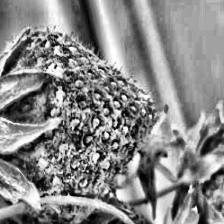Powdery Mildew Fruit: (0, 29, 156, 224), (55, 196, 164, 224)
